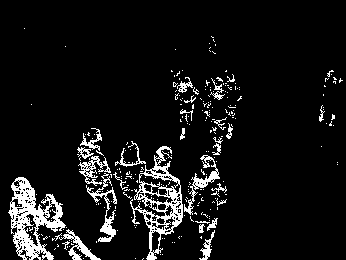person: (138, 144, 184, 260), (77, 124, 120, 242), (185, 153, 228, 260), (35, 193, 103, 260), (8, 175, 56, 260), (114, 138, 150, 225), (204, 75, 235, 156), (170, 65, 200, 144)
